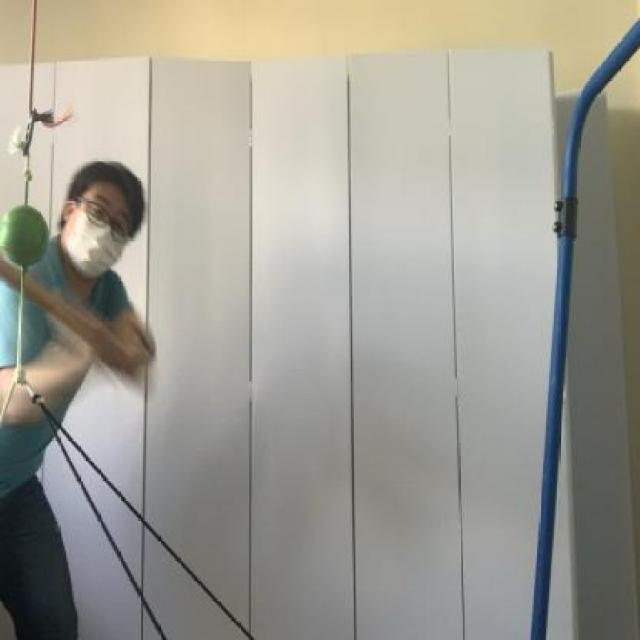baseball: (0, 199, 57, 281)
